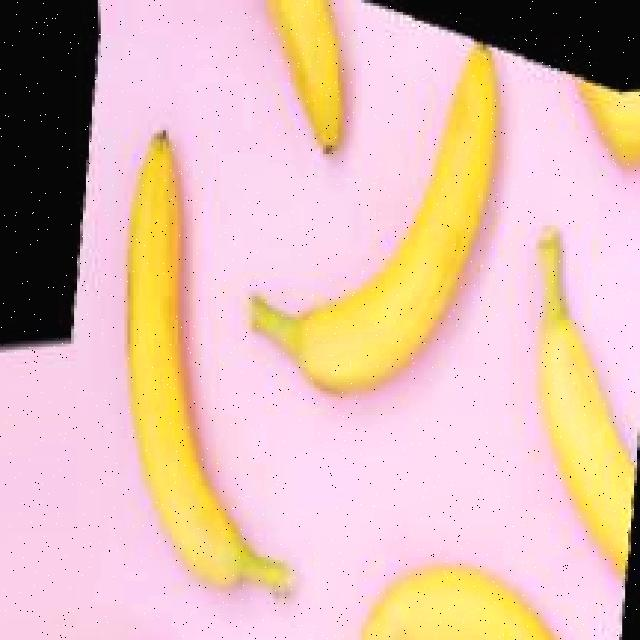banana: (230, 45, 520, 422), (95, 86, 281, 640), (500, 204, 640, 589)
